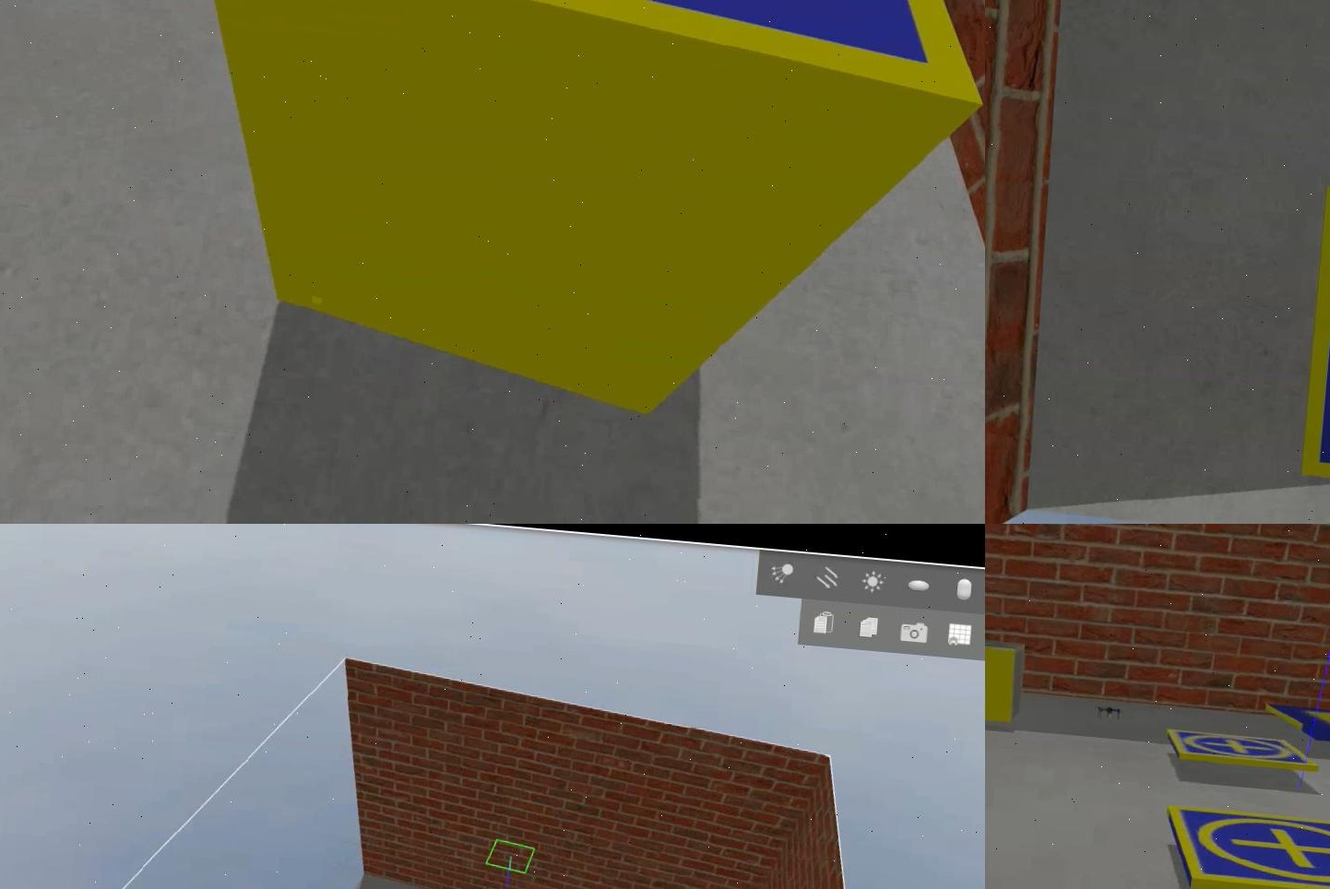small_base: (185, 1, 983, 108), (1155, 805, 1328, 889), (1156, 730, 1316, 779)
